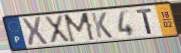4: (116, 10, 136, 38)
K: (90, 11, 114, 39)
M: (62, 11, 97, 45)
T: (135, 7, 154, 35)
X: (20, 16, 50, 48), (43, 14, 72, 44)
